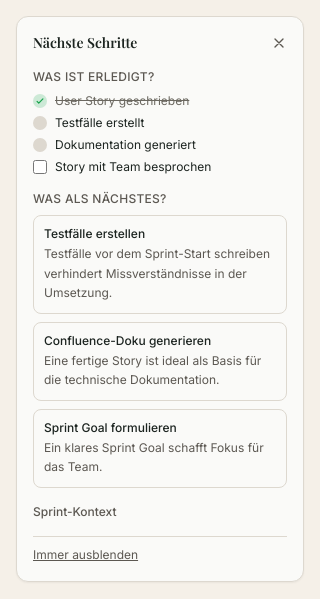
Test: CoachPanel — Dismiss › zeigt Inline-Bestätigung bei «Immer ausblenden»
This screenshot has width=320, height=599.
Click the button "Immer ausblenden" at (86, 554), box x1=33 y1=546 x2=138 y2=562
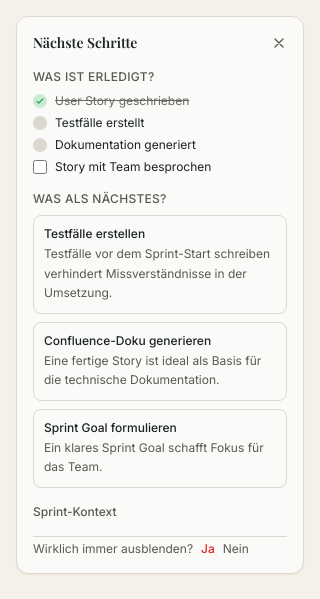
Expected: the text "Wirklich immer ausblenden?" is shown, x1=33 y1=540 x2=193 y2=556
